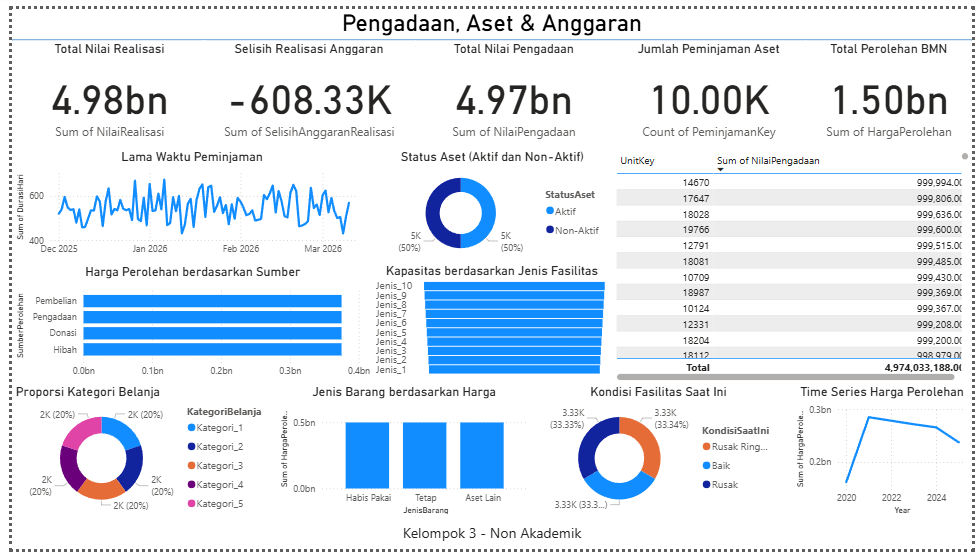

Layout of this report page (visuals, bound fields, positions):
{"tool":"powerbi","page":{"name":"Page 2","canvas":[1280,720],"ordinal":1},"visuals":[{"type":"shape","title":"Pengadaan, Aset & Anggaran","box":[0,0,1280,50],"z":0},{"type":"card","title":"Total Nilai Realisasi","fields":{"Values":["Sum(Fact_RealisasiAnggaran.NilaiRealisasi)"]},"box":[0,42,260,144],"z":1000},{"type":"card","title":"Selisih Realisasi Anggaran","fields":{"Values":["Sum(Fact_RealisasiAnggaran.SelisihAnggaranRealisasi)"]},"box":[254,42,284,144],"z":2000},{"type":"card","title":"Total Nilai Pengadaan","fields":{"Values":["Sum(Fact_Pengadaan.NilaiPengadaan)"]},"box":[538,42,262,144],"z":3000},{"type":"card","title":"Jumlah Peminjaman Aset","fields":{"Values":["CountNonNull(Fact_PeminjamanFasilitas.PeminjamanKey)"]},"box":[800,42,258,144],"z":4000},{"type":"donutChart","title":"Proporsi Kategori Belanja","fields":{"Category":["DimAkunBelanja.KategoriBelanja"],"Y":["CountNonNull(DimAkunBelanja.KategoriBelanja)"]},"box":[0,500.7,352,178],"z":5000},{"type":"card","title":"Total Perolehan BMN","fields":{"Values":["Sum(DimBMN.HargaPerolehan)"]},"box":[1058,42,222,144],"z":6000},{"type":"columnChart","title":"Jenis Barang berdasarkan Harga ","fields":{"Y":["Sum(DimBMN.HargaPerolehan)"],"Category":["DimBMN.JenisBarang"]},"box":[352,500.7,342,178],"z":7000},{"type":"donutChart","title":"Kondisi Fasilitas Saat Ini","fields":{"Category":["DimBMN.KondisiSaatIni"],"Y":["CountNonNull(DimBMN.KondisiSaatIni)"]},"box":[694,500.7,336,178],"z":8000},{"type":"donutChart","title":"Status Aset (Aktif dan Non-Aktif)","fields":{"Category":["DimBMN.StatusAset"],"Y":["CountNonNull(DimBMN.StatusAset)"]},"box":[480,186.7,320,152],"z":9000},{"type":"clusteredBarChart","title":"Harga Perolehan berdasarkan Sumber","fields":{"Category":["DimBMN.SumberPerolehan"],"Y":["Sum(DimBMN.HargaPerolehan)"]},"box":[0,340.7,482,160],"z":10000},{"type":"lineChart","title":"Time Series Harga Perolehan","fields":{"Category":["DimBMN.TanggalPerolehan.Variation.Date Hierarchy.Year","DimBMN.TanggalPerolehan.Variation.Date Hierarchy.Quarter","DimBMN.TanggalPerolehan.Variation.Date Hierarchy.Month","DimBMN.TanggalPerolehan.Variation.Date Hierarchy.Day"],"Y":["Sum(DimBMN.HargaPerolehan)"]},"box":[1040,500.7,240,178],"z":11000},{"type":"funnel","title":"Kapasitas berdasarkan Jenis Fasilitas","fields":{"Category":["DimFasilitas.JenisFasilitas"],"Y":["Sum(DimFasilitas.Kapasitas)"]},"box":[480,338.7,320,154],"z":12000},{"type":"tableEx","fields":{"Values":["Fact_Pengadaan.UnitKey","Sum(Fact_Pengadaan.NilaiPengadaan)"]},"box":[800,186,480,314],"z":13000},{"type":"lineChart","title":"Lama Waktu Peminjaman","fields":{"Y":["Sum(Fact_PeminjamanFasilitas.DurasiHari)"],"Category":["Fact_PeminjamanFasilitas.TanggalPinjam"]},"box":[0,186.7,480,152],"z":14000},{"type":"textbox","box":[0,680,1280,40],"z":15000}]}

Visuals, with their boxes in screenshot pixels (x1, y1, x2, y2), scaled from the page's 1280x720 canvas onto the 979x559 screenshot:
"Pengadaan, Aset & Anggaran" shape: bbox(0, 0, 978, 39)
"Total Nilai Realisasi" card: bbox(0, 33, 199, 144)
"Selisih Realisasi Anggaran" card: bbox(194, 33, 411, 144)
"Total Nilai Pengadaan" card: bbox(411, 33, 612, 144)
"Jumlah Peminjaman Aset" card: bbox(612, 33, 809, 144)
"Proporsi Kategori Belanja" donutChart: bbox(0, 389, 269, 527)
"Total Perolehan BMN" card: bbox(809, 33, 978, 144)
"Jenis Barang berdasarkan Harga " columnChart: bbox(269, 389, 531, 527)
"Kondisi Fasilitas Saat Ini" donutChart: bbox(531, 389, 788, 527)
"Status Aset (Aktif dan Non-Aktif)" donutChart: bbox(367, 145, 612, 263)
"Harga Perolehan berdasarkan Sumber" clusteredBarChart: bbox(0, 265, 369, 389)
"Time Series Harga Perolehan" lineChart: bbox(795, 389, 978, 527)
"Kapasitas berdasarkan Jenis Fasilitas" funnel: bbox(367, 263, 612, 383)
tableEx - Fact_Pengadaan.UnitKey x Sum(Fact_Pengadaan.NilaiPengadaan): bbox(612, 144, 978, 388)
"Lama Waktu Peminjaman" lineChart: bbox(0, 145, 367, 263)
textbox: bbox(0, 528, 978, 558)
